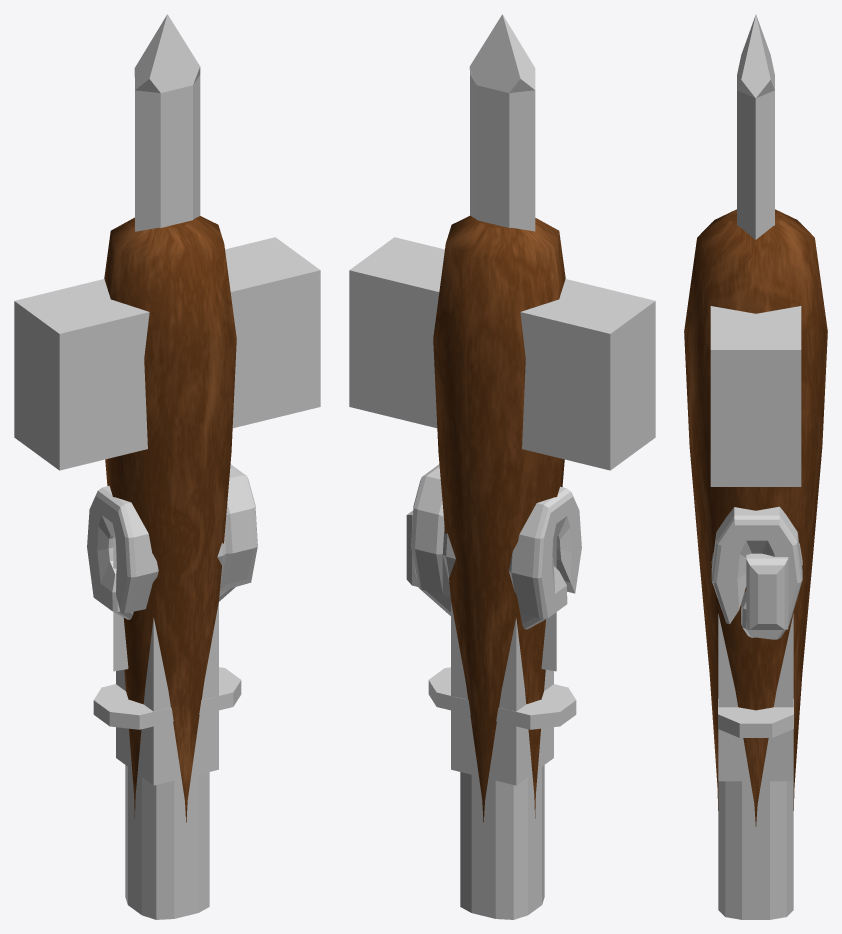
Rendered from MeshParticles.fbx.
The picture shows the model from 3 angles, left to right: view 1: azimuth 30°, elevation 25°; view 2: azimuth 150°, elevation 25°; view 3: azimuth 270°, elevation 25°; orthographic projection.
Parts seen in each view (by area): view 1: ClubParticle, HammerParticle, SwordParticle, FistParticle, KnifeParticle; view 2: ClubParticle, HammerParticle, SwordParticle, FistParticle, KnifeParticle; view 3: ClubParticle, HammerParticle, SwordParticle, FistParticle.
Boxes of the visible parts, x1,y1,x2,y2 form: ClubParticle: (104, 216, 236, 822); HammerParticle: (14, 237, 320, 785); SwordParticle: (93, 14, 241, 919); FistParticle: (87, 464, 257, 619); KnifeParticle: (113, 537, 128, 671); ClubParticle: (433, 216, 565, 822); HammerParticle: (349, 237, 655, 785); SwordParticle: (428, 14, 576, 919); FistParticle: (406, 464, 581, 629); KnifeParticle: (541, 537, 556, 671); ClubParticle: (684, 209, 827, 826); HammerParticle: (710, 222, 801, 781); SwordParticle: (718, 14, 793, 919); FistParticle: (711, 506, 802, 639).
Bounding box in the file's own units: 4 × 13 × 1.9.
